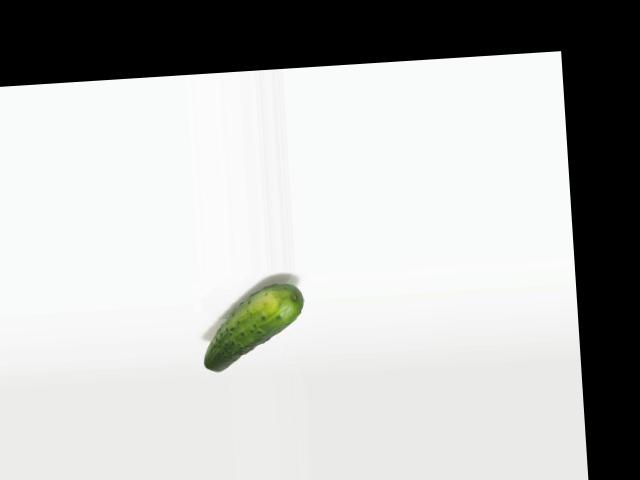cucumber: (198, 283, 306, 372)
